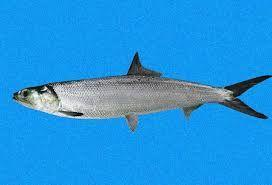Tenpounder: (10, 52, 272, 132)
